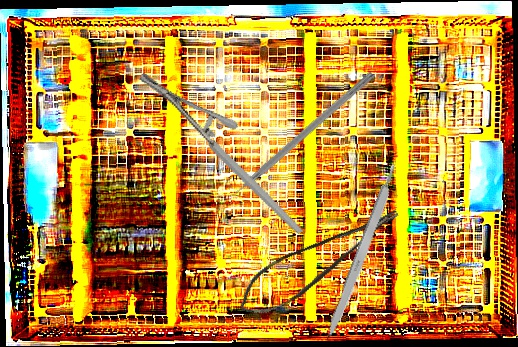Chopper: (214, 63, 376, 206)
Micro Scissor: (228, 203, 414, 325)
Needle Holder: (136, 40, 304, 268)
Scalpel Handle: (322, 161, 404, 344)
